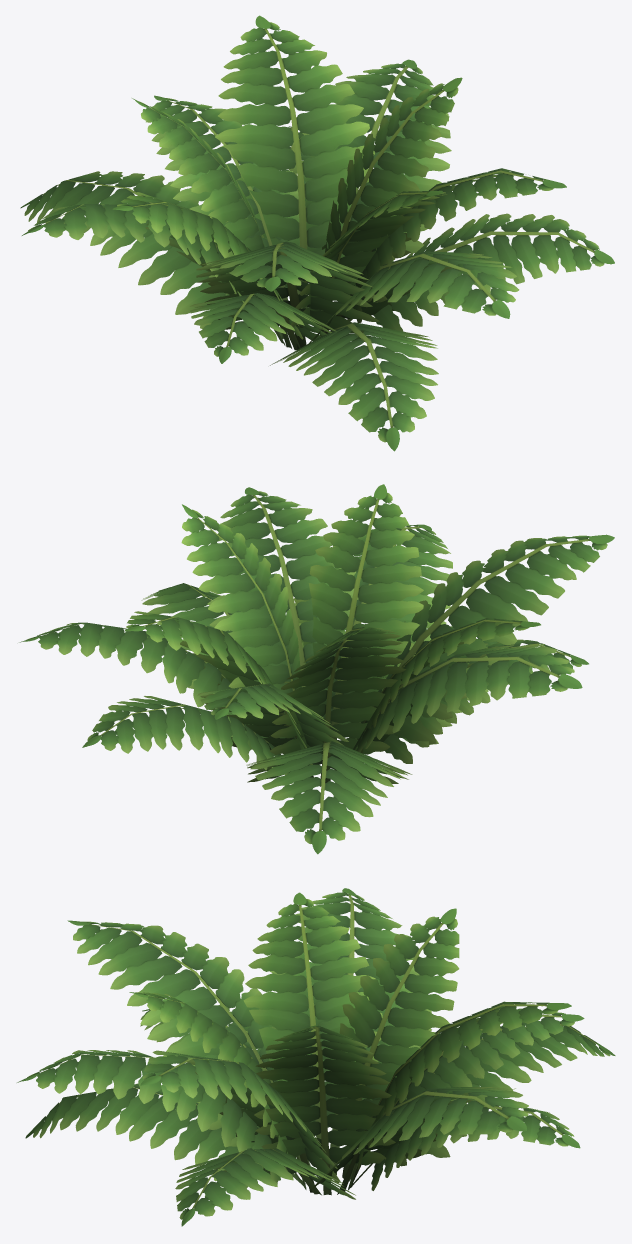
Rendered from fern_a.glb.
The picture shows the model from 3 angles, top to bottom: view 1: azimuth 30°, elevation 25°; view 2: azimuth 150°, elevation 25°; view 3: azimuth 270°, elevation 25°; orthographic projection.
Parts seen in each view (by area): view 1: fern_a_mesh; view 2: fern_a_mesh; view 3: fern_a_mesh.
Part boxes in pixels (<box>): fern_a_mesh: <box>20,15,614,451</box>; fern_a_mesh: <box>19,484,614,854</box>; fern_a_mesh: <box>17,888,615,1226</box>.
Size of the model in its own units: 1.35 by 0.5834 by 1.36.
1 material, 1 textured.
